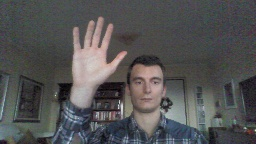Mano_aperta: (68, 14, 130, 90)
